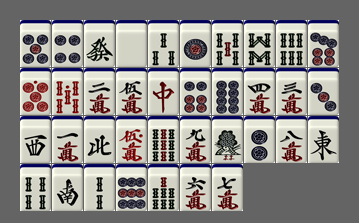0m: (116, 116, 147, 163)
0p: (20, 68, 51, 115)
0s: (52, 68, 83, 115)
1m: (52, 116, 83, 163)
1p: (180, 20, 211, 67)
1s: (212, 116, 243, 163)
1z: (308, 116, 339, 163)
2m: (84, 68, 115, 115)
2p: (244, 116, 275, 163)
2s: (84, 164, 115, 211)
2z: (52, 164, 83, 211)
3m: (276, 68, 307, 115)
3p: (308, 68, 339, 115)
3s: (148, 20, 179, 67)
3z: (20, 116, 51, 163)
4m: (244, 68, 275, 115)
4p: (52, 20, 83, 67)
4s: (20, 164, 51, 211)
4z: (84, 116, 115, 163)
5m: (116, 68, 147, 115)
5p: (20, 20, 51, 67)
5s: (212, 20, 243, 67)
5z: (116, 20, 147, 67)
6m: (180, 164, 211, 211)
6p: (180, 68, 211, 115)
6s: (276, 20, 307, 67)
6z: (84, 20, 115, 67)
7m: (212, 164, 243, 211)
7p: (308, 20, 339, 67)
7s: (148, 164, 179, 211)
7z: (148, 68, 179, 115)
8m: (276, 116, 307, 163)
8p: (212, 68, 243, 115)
8s: (244, 20, 275, 67)
9m: (180, 116, 211, 163)
9p: (116, 164, 147, 211)
9s: (148, 116, 179, 163)
